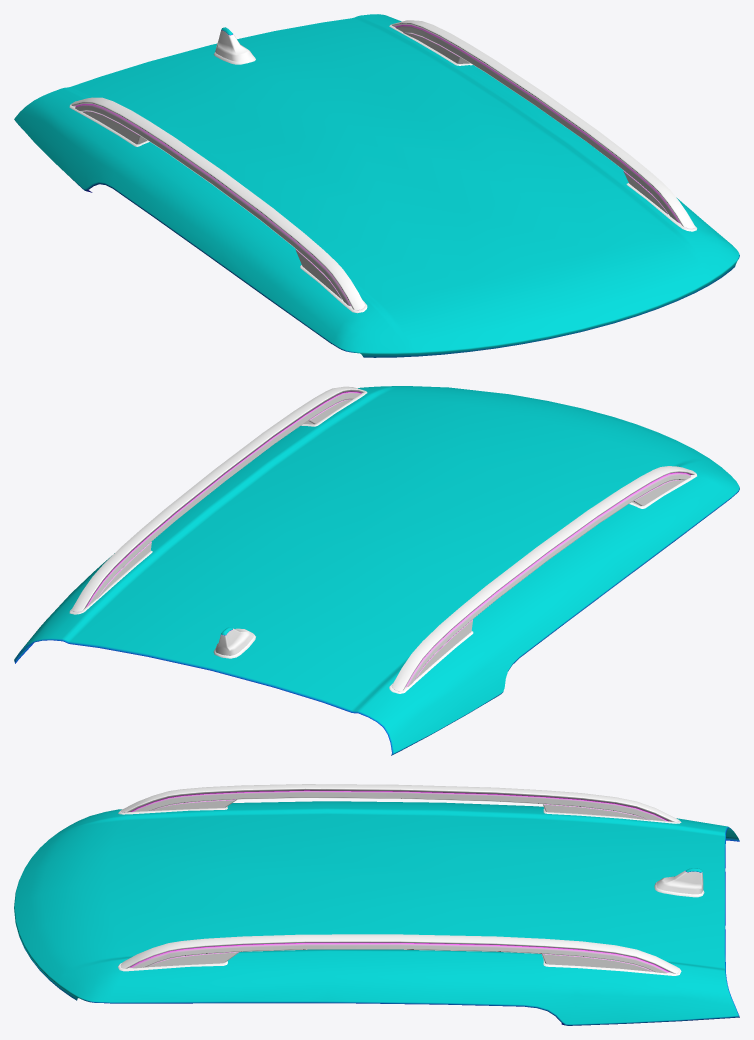
The model's file is Car_Mini_CountrymanJCW_2017_Roof_SetA.fbx.
The picture shows the model from 3 angles, top to bottom: view 1: azimuth 30°, elevation 25°; view 2: azimuth 150°, elevation 25°; view 3: azimuth 270°, elevation 25°; orthographic projection. The views are drawn at different scales.
Visible parts, largest first — view 1: Roof 6; view 2: Roof 6; view 3: Roof 6.
Part boxes in pixels (x1,y1,x2,y2): Roof 6: (14, 14, 739, 357); Roof 6: (14, 386, 739, 755); Roof 6: (14, 784, 739, 1025).
Bounding box in the file's own units: 1.28 × 0.2104 × 2.01.
